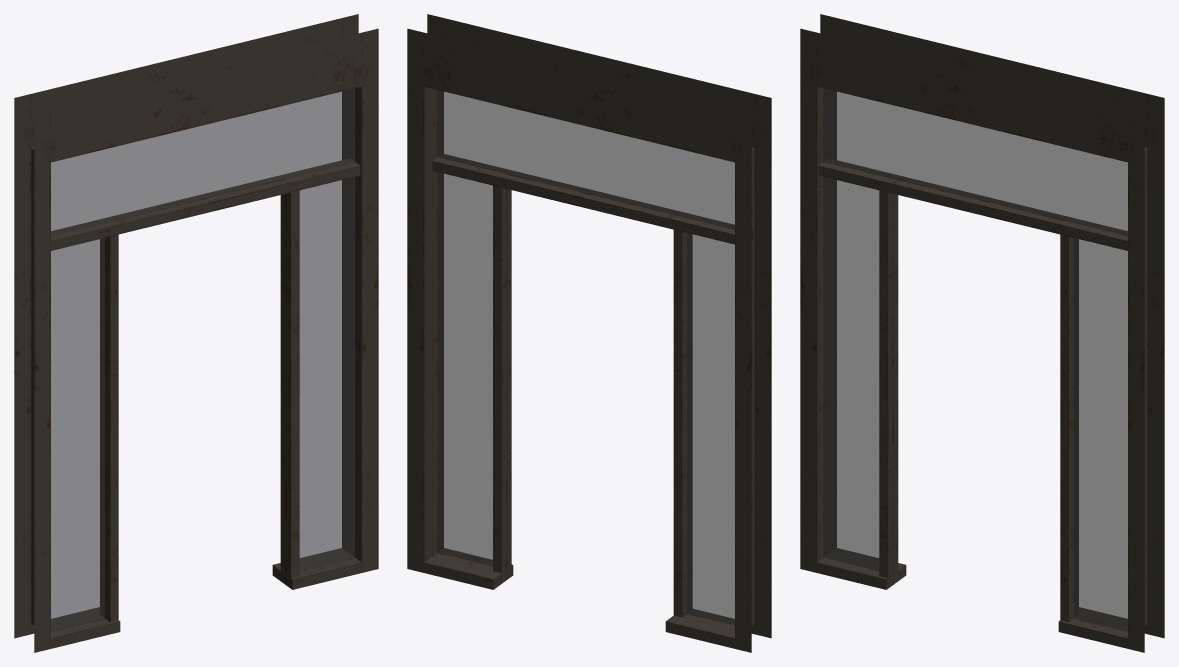
Rendered from DoorFrame_Metal_Single.gltf.
3 views of the same model, side by side, from view 1: azimuth 30°, elevation 25°; view 2: azimuth 150°, elevation 25°; view 3: azimuth 330°, elevation 25° (orthographic).
Visible parts, largest first — view 1: DoorFrame_Metal_Single; view 2: DoorFrame_Metal_Single; view 3: DoorFrame_Metal_Single.
Part boxes in pixels (x1,y1,x2,y2): DoorFrame_Metal_Single: (14,14,378,652); DoorFrame_Metal_Single: (407,14,771,652); DoorFrame_Metal_Single: (800,14,1164,652).
Size of the model in its own units: 2 by 3 by 0.2.
Materials: 2 (1 with a texture image).
